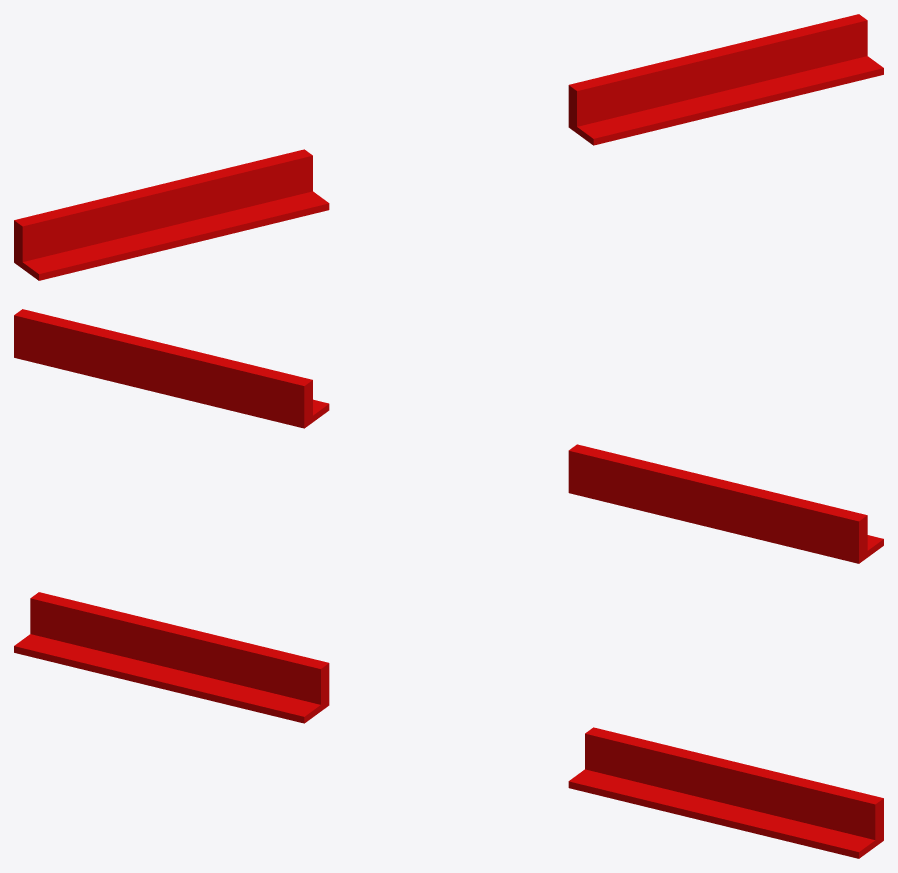
The model's file is SM_SingleDoorWallSkirtingCollider.fbx.
3 views of the same model, one above another, from view 1: azimuth 30°, elevation 25°; view 2: azimuth 150°, elevation 25°; view 3: azimuth 330°, elevation 25° (orthographic).
Visible parts, largest first — view 1: SingleDoorWallSkirtingCollision; view 2: SingleDoorWallSkirtingCollision; view 3: SingleDoorWallSkirtingCollision.
Boxes of the visible parts, bbox=[...] form: SingleDoorWallSkirtingCollision: bbox=[14, 14, 883, 280]; SingleDoorWallSkirtingCollision: bbox=[14, 309, 883, 563]; SingleDoorWallSkirtingCollision: bbox=[14, 592, 883, 858].
Size of the model in its own units: 400 by 19.2 by 20.48.
